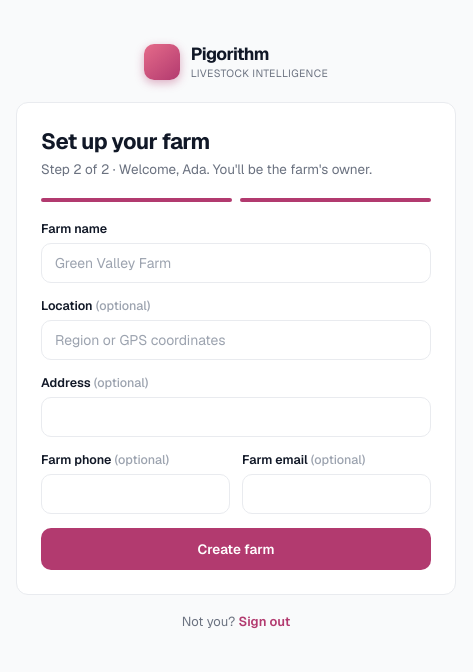
Scenario: auth forms › farm onboarding › shows backend validation messages
The width and height of the screenshot is (473, 672).
Type "Green Valley" into the field labelled "Farm name" at x=236, y=263, box x1=41 y1=243 x2=431 y2=283
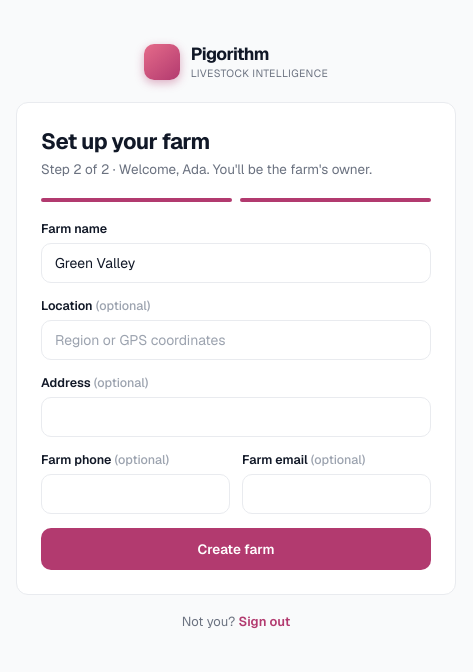
Click the button "Create farm" at x=236, y=549, box x1=41 y1=528 x2=431 y2=570
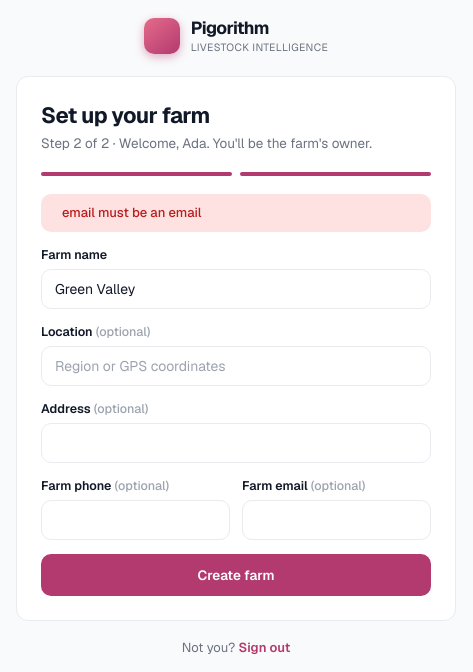
Now the message reads "email must be an email", box x1=62 y1=204 x2=201 y2=221
